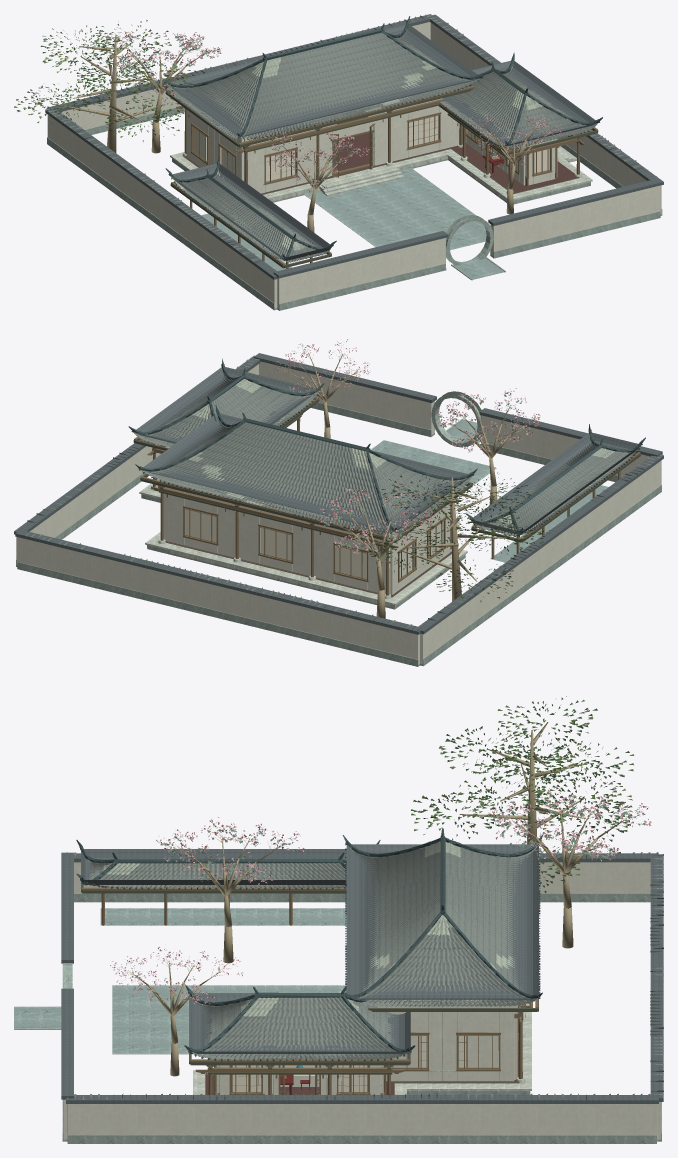
The model's file is reference-public_models_places-low_longcuian.glb.
3 renders of one model, top to bottom at view 1: azimuth 30°, elevation 25°; view 2: azimuth 150°, elevation 25°; view 3: azimuth 270°, elevation 25°, orthographic. The views are drawn at different scales.
Parts seen in each view (by area): view 1: r15_longcuian_Sunwen_r18_temple_tile.001, r15_longcuian_Sunwen_r18_temple_roof.001, r15_longcuian_Sunwen_r18_temple_plaster.001, Mobile_longcuian_plants, Mobile_longcuian_paving, r15_longcuian_Sunwen_r18_temple_plaster.003, r15_longcuian_Sunwen_r18_temple_stone.001, r15_longcuian_Sunwen_r18_temple_wood.001, r15_longcuian_Sunwen_r18_temple_cutstone.001, r15_longcuian_Sunwen_r18_temple_tiledark.001, r15_longcuian_Sunwen_r18_temple_darkwood.001, Mobile_longcuian_floorwood (+3 smaller); view 2: r15_longcuian_Sunwen_r18_temple_plaster.001, r15_longcuian_Sunwen_r18_temple_tile.001, r15_longcuian_Sunwen_r18_temple_roof.001, Mobile_longcuian_plants, r15_longcuian_Sunwen_r18_temple_stone.001, r15_longcuian_Sunwen_r18_temple_plaster.003, r15_longcuian_Sunwen_r18_temple_wood.001, r15_longcuian_Sunwen_r18_temple_tiledark.001, r15_longcuian_Sunwen_r18_temple_cutstone.001, Mobile_longcuian_paving, r15_longcuian_Sunwen_r18_temple_darkwood.001, r15_longcuian_Sunwen_r18_temple_screen.002 (+1 smaller); view 3: r15_longcuian_Sunwen_r18_temple_tile.001, r15_longcuian_Sunwen_r18_temple_roof.001, r15_longcuian_Sunwen_r18_temple_plaster.001, Mobile_longcuian_plants, Mobile_longcuian_paving, r15_longcuian_Sunwen_r18_temple_stone.001, r15_longcuian_Sunwen_r18_temple_plaster.003, r15_longcuian_Sunwen_r18_temple_tiledark.001, r15_longcuian_Sunwen_r18_temple_wood.001, r15_longcuian_Sunwen_r18_temple_darkwood.001, r15_longcuian_Sunwen_r18_temple_cutstone.001, r15_longcuian_Sunwen_r18_temple_tilelight.001 (+2 smaller).
Part boxes in pixels (<box>): r15_longcuian_Sunwen_r18_temple_tile.001: <box>45,14,651,276</box>; r15_longcuian_Sunwen_r18_temple_roof.001: <box>45,14,663,279</box>; r15_longcuian_Sunwen_r18_temple_plaster.001: <box>47,22,661,308</box>; Mobile_longcuian_plants: <box>14,20,562,232</box>; Mobile_longcuian_paving: <box>201,168,504,279</box>; r15_longcuian_Sunwen_r18_temple_plaster.003: <box>186,91,557,193</box>; r15_longcuian_Sunwen_r18_temple_stone.001: <box>47,107,662,310</box>; r15_longcuian_Sunwen_r18_temple_wood.001: <box>166,86,597,268</box>; r15_longcuian_Sunwen_r18_temple_cutstone.001: <box>170,142,592,201</box>; r15_longcuian_Sunwen_r18_temple_tiledark.001: <box>161,16,602,260</box>; r15_longcuian_Sunwen_r18_temple_darkwood.001: <box>165,88,598,267</box>; Mobile_longcuian_floorwood: <box>183,132,579,194</box>; r15_longcuian_Sunwen_r18_temple_plaster.001: <box>16,361,661,664</box>; r15_longcuian_Sunwen_r18_temple_tile.001: <box>20,355,663,631</box>; r15_longcuian_Sunwen_r18_temple_roof.001: <box>14,353,663,634</box>; Mobile_longcuian_plants: <box>276,339,544,618</box>; r15_longcuian_Sunwen_r18_temple_stone.001: <box>16,391,661,666</box>; r15_longcuian_Sunwen_r18_temple_plaster.003: <box>163,481,450,594</box>; r15_longcuian_Sunwen_r18_temple_wood.001: <box>134,397,640,595</box>; r15_longcuian_Sunwen_r18_temple_tiledark.001: <box>128,358,645,534</box>; r15_longcuian_Sunwen_r18_temple_cutstone.001: <box>139,479,467,606</box>; Mobile_longcuian_paving: <box>371,419,608,562</box>; r15_longcuian_Sunwen_r18_temple_darkwood.001: <box>133,397,640,597</box>; r15_longcuian_Sunwen_r18_temple_screen.002: <box>185,509,428,578</box>; r15_longcuian_Sunwen_r18_temple_tile.001: <box>66,844,663,1099</box>; r15_longcuian_Sunwen_r18_temple_roof.001: <box>61,844,663,1103</box>; r15_longcuian_Sunwen_r18_temple_plaster.001: <box>63,862,661,1140</box>; Mobile_longcuian_plants: <box>110,696,651,1076</box>; Mobile_longcuian_paving: <box>14,908,346,1053</box>; r15_longcuian_Sunwen_r18_temple_stone.001: <box>14,893,661,1143</box>; r15_longcuian_Sunwen_r18_temple_plaster.003: <box>216,1001,517,1094</box>; r15_longcuian_Sunwen_r18_temple_tiledark.001: <box>76,828,542,1061</box>; r15_longcuian_Sunwen_r18_temple_wood.001: <box>82,885,538,1094</box>; r15_longcuian_Sunwen_r18_temple_darkwood.001: <box>81,884,538,1094</box>; r15_longcuian_Sunwen_r18_temple_cutstone.001: <box>193,991,531,1094</box>; r15_longcuian_Sunwen_r18_temple_tilelight.001: <box>103,841,514,1016</box>.
Size of the model in its own units: 37.71 by 11.44 by 36.38.
Materials: 24 (19 with a texture image).
